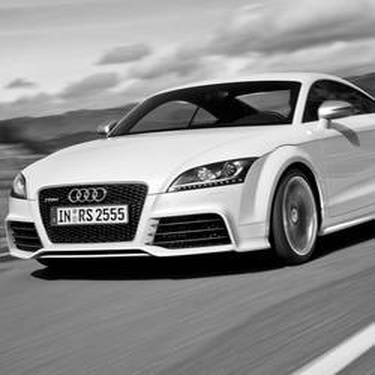car: (1, 63, 373, 267)
